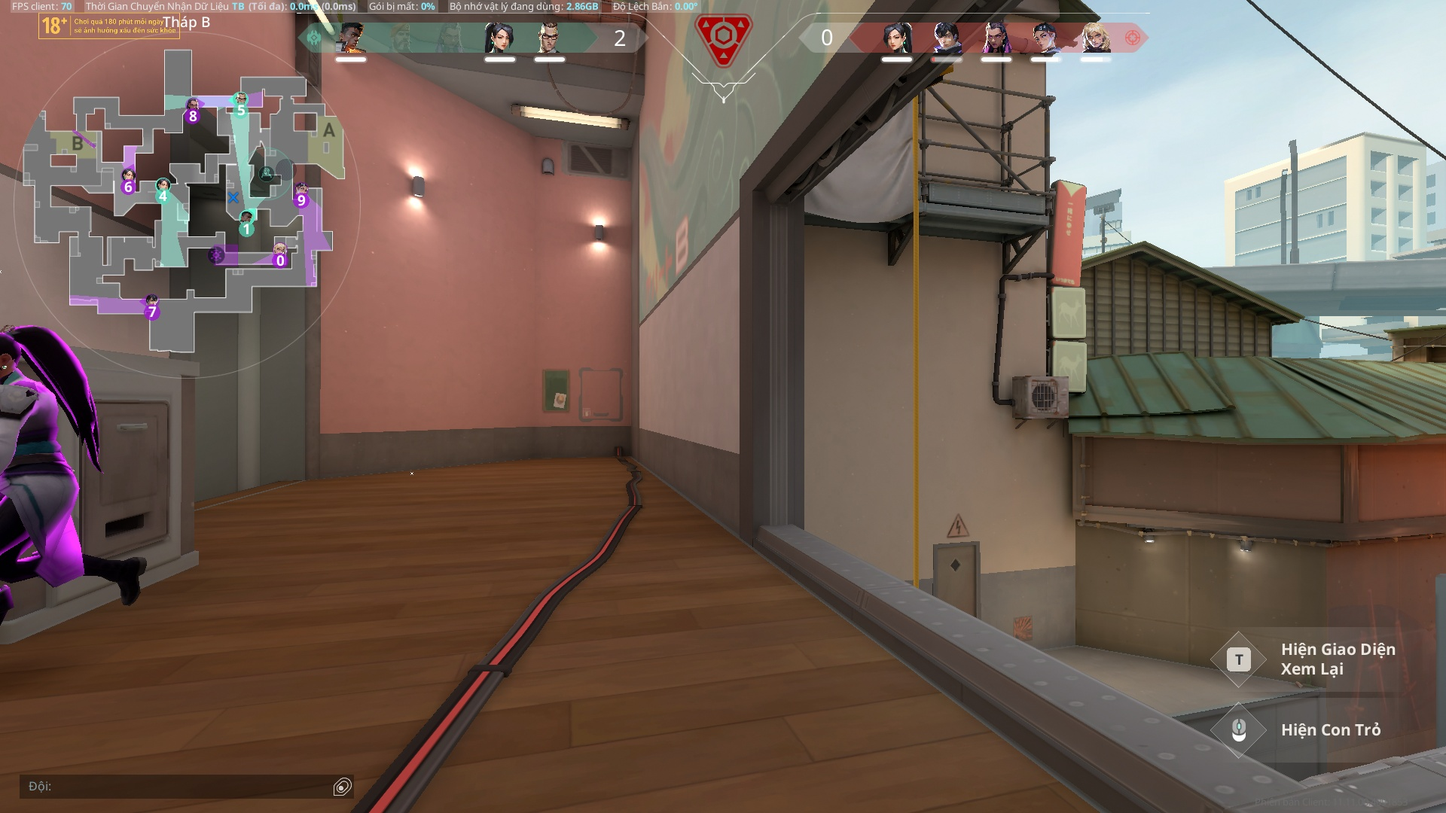body: (3, 376, 78, 499)
head: (2, 330, 23, 381)
